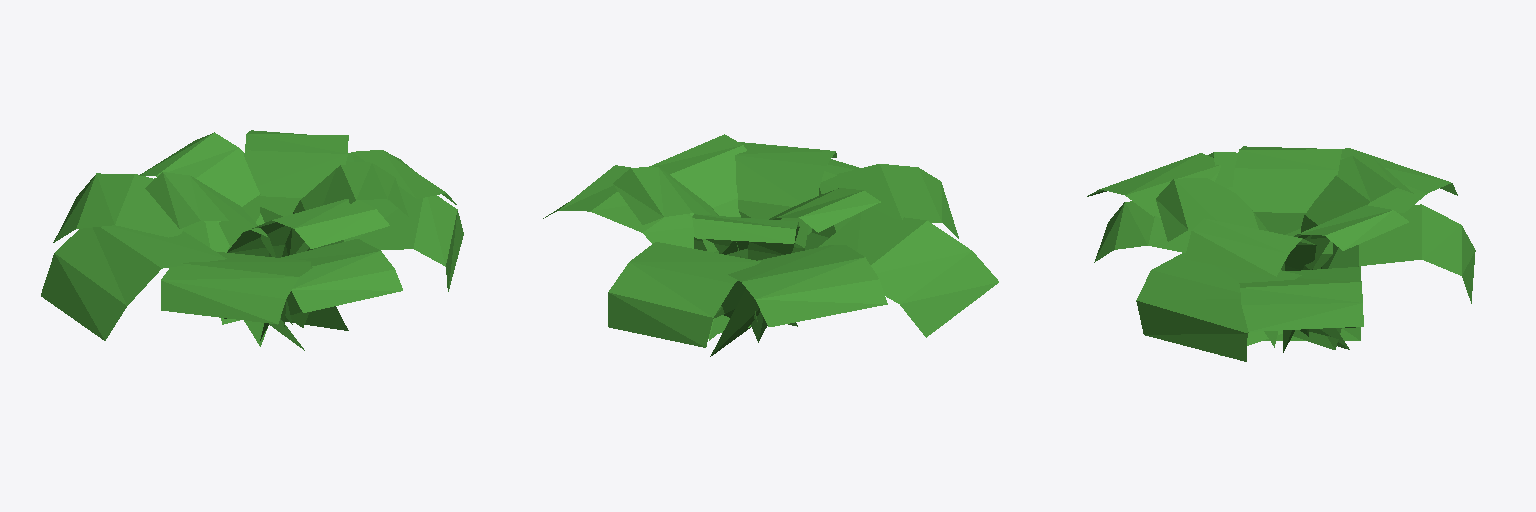
Rendered from fern.obj.
3 renders of one model, left to right at view 1: azimuth 30°, elevation 25°; view 2: azimuth 150°, elevation 25°; view 3: azimuth 270°, elevation 25°, orthographic.
Visible parts, largest first — view 1: Plane; view 2: Plane; view 3: Plane.
Boxes of the visible parts, x1=… form: Plane: x1=41, y1=130, x2=463, y2=350; Plane: x1=543, y1=134, x2=998, y2=356; Plane: x1=1087, y1=146, x2=1475, y2=361.
Size of the model in its own units: 11.34 by 4.33 by 10.04.